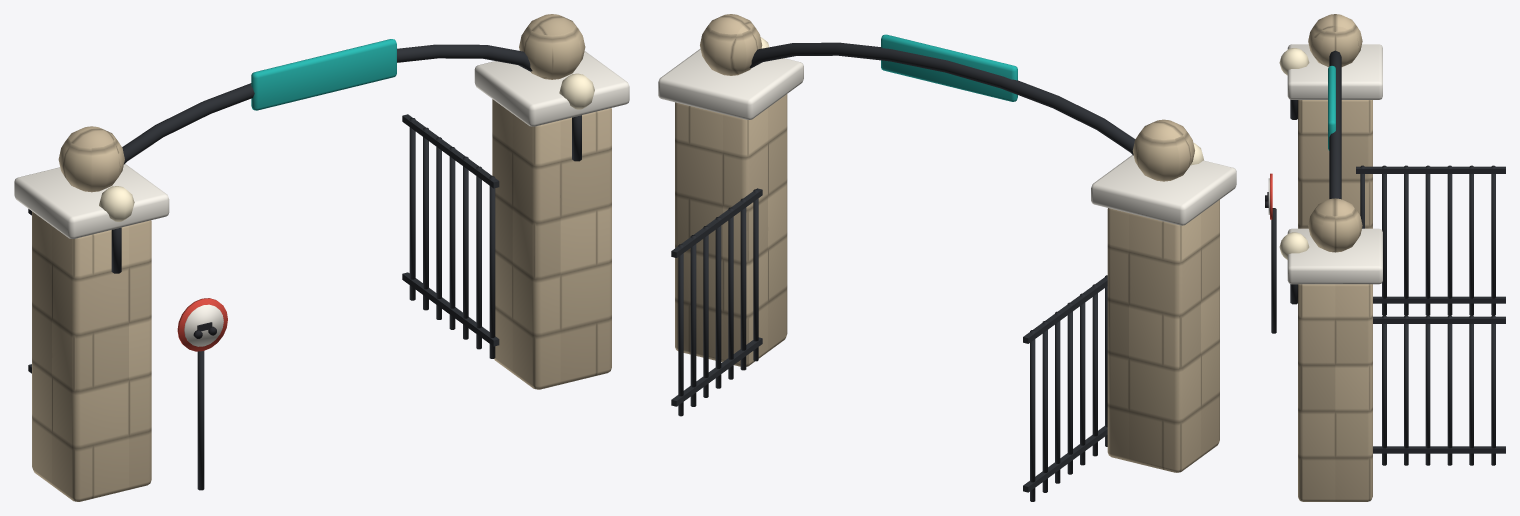
The model's file is park_gate.gltf.
3 views of the same model, side by side, from view 1: azimuth 30°, elevation 25°; view 2: azimuth 150°, elevation 25°; view 3: azimuth 270°, elevation 25° (orthographic). The views are drawn at different scales.
Parts seen in each view (by area): view 1: park_gate_mesh; view 2: park_gate_mesh; view 3: park_gate_mesh.
Boxes of the visible parts, box(x1,y1,x2,y2) form: park_gate_mesh: box(14, 14, 629, 501); park_gate_mesh: box(658, 14, 1236, 501); park_gate_mesh: box(1265, 14, 1505, 501).
Size of what is drawn, in the model's own units: 7.8 by 4.9 by 3.53.
Materials: 8 (1 with a texture image).
